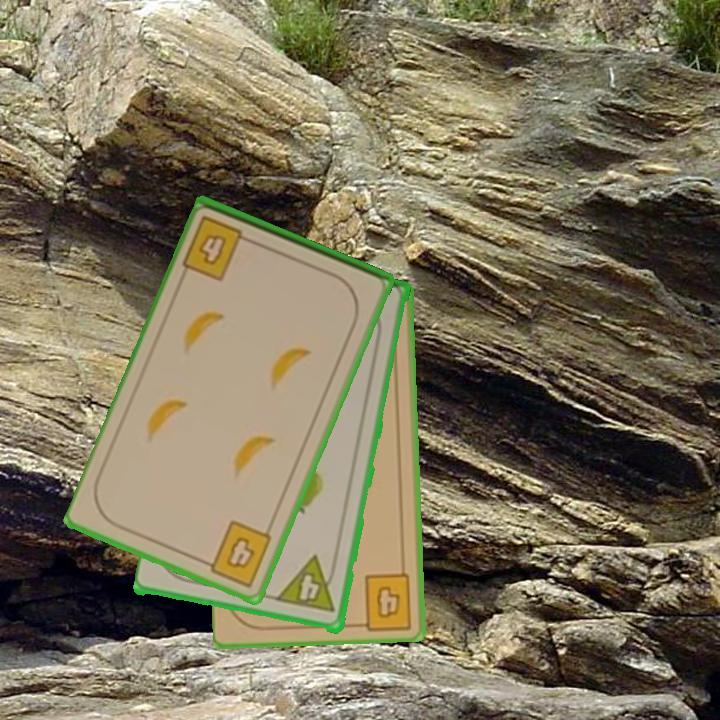4b: (198, 516, 275, 590), (179, 212, 258, 284), (353, 569, 415, 631)
4p: (274, 554, 340, 616)
